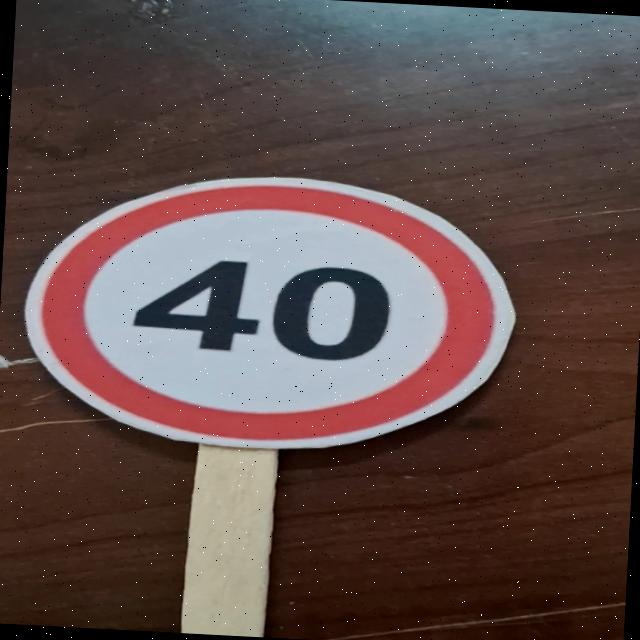Speed40: (13, 158, 525, 464)
